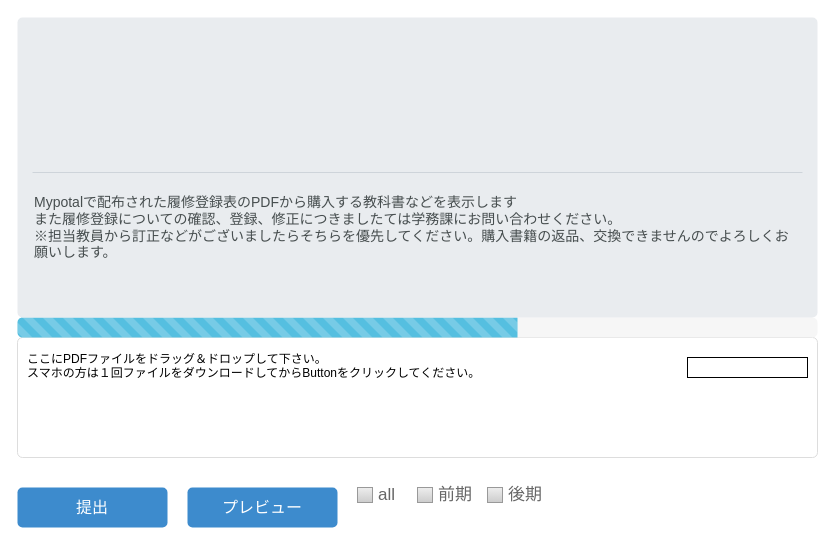
Image size: 835x544. Some labels were removed from this diagram. The box of each missing label's shape, as (x1, y1, x2, y2) in pixels:
Button: (686, 356, 808, 378)
ようこそ! 大阪電気通信大学購入図書照会: (17, 17, 817, 317)
